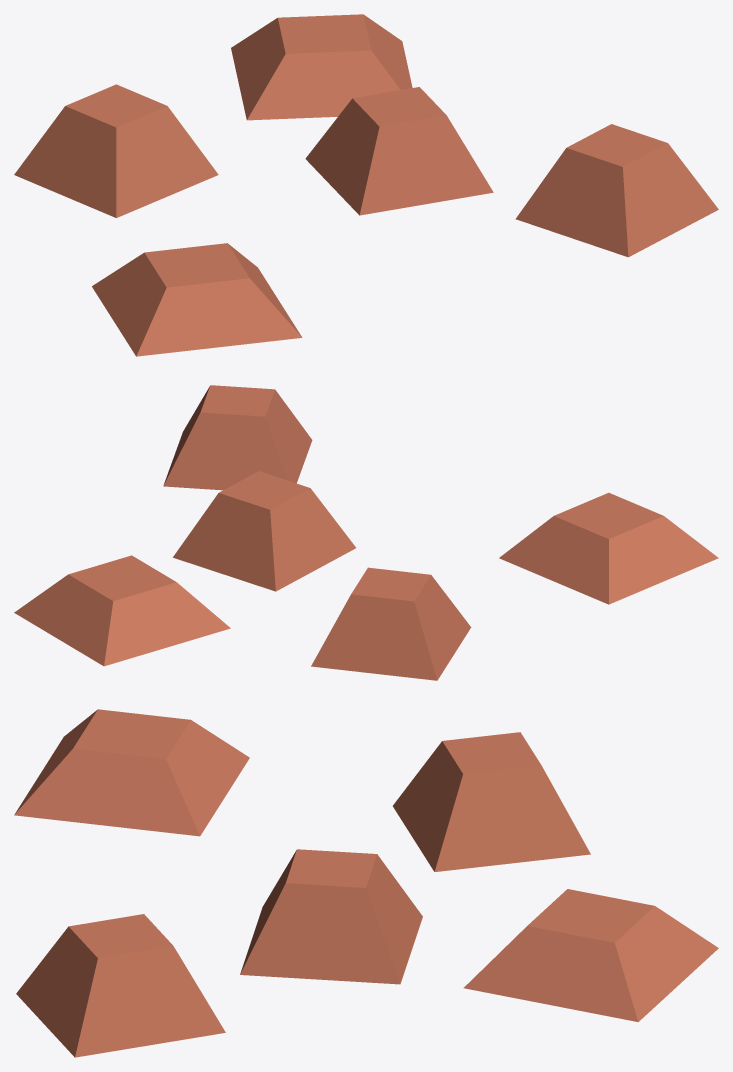
File: rocks_smallA.glb
3 views of the same model, one above another, from view 1: azimuth 30°, elevation 25°; view 2: azimuth 150°, elevation 25°; view 3: azimuth 270°, elevation 25° (orthographic). The views are drawn at different scales.
Parts seen in each view (by area): view 1: rocks_smallA; view 2: rocks_smallA; view 3: rocks_smallA.
Boxes of the visible parts, <box> form: rocks_smallA: <box>14,14,718,356</box>; rocks_smallA: <box>14,385,718,680</box>; rocks_smallA: <box>14,709,718,1057</box>.
Bounding box in the file's own units: 1.32 × 0.1475 × 1.22.
